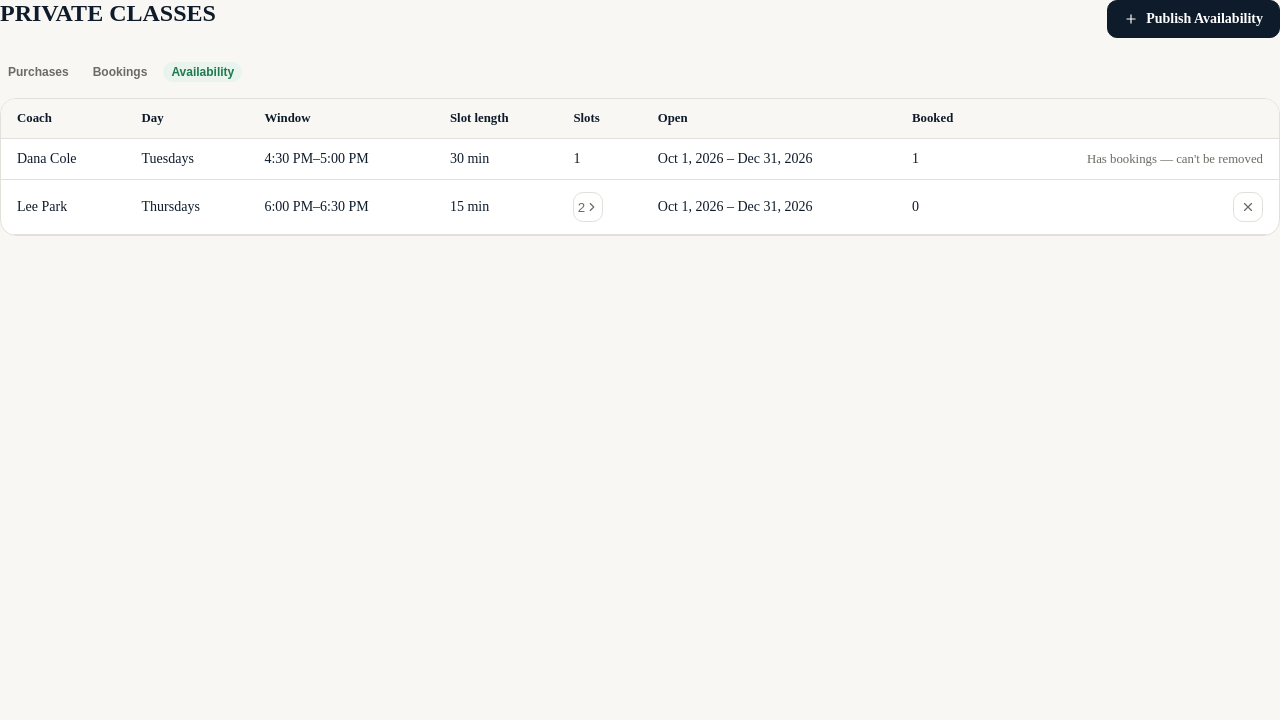
Test: AdminPrivateClassesPage › Availability: publishes on a coach's behalf (the coach picker is required)
Expected: the text "4:30 PM–5:00 PM" is shown, [248,139,434,180]
Click the button "Publish Availability": coordinates (1194, 19) [1107,0,1279,38]
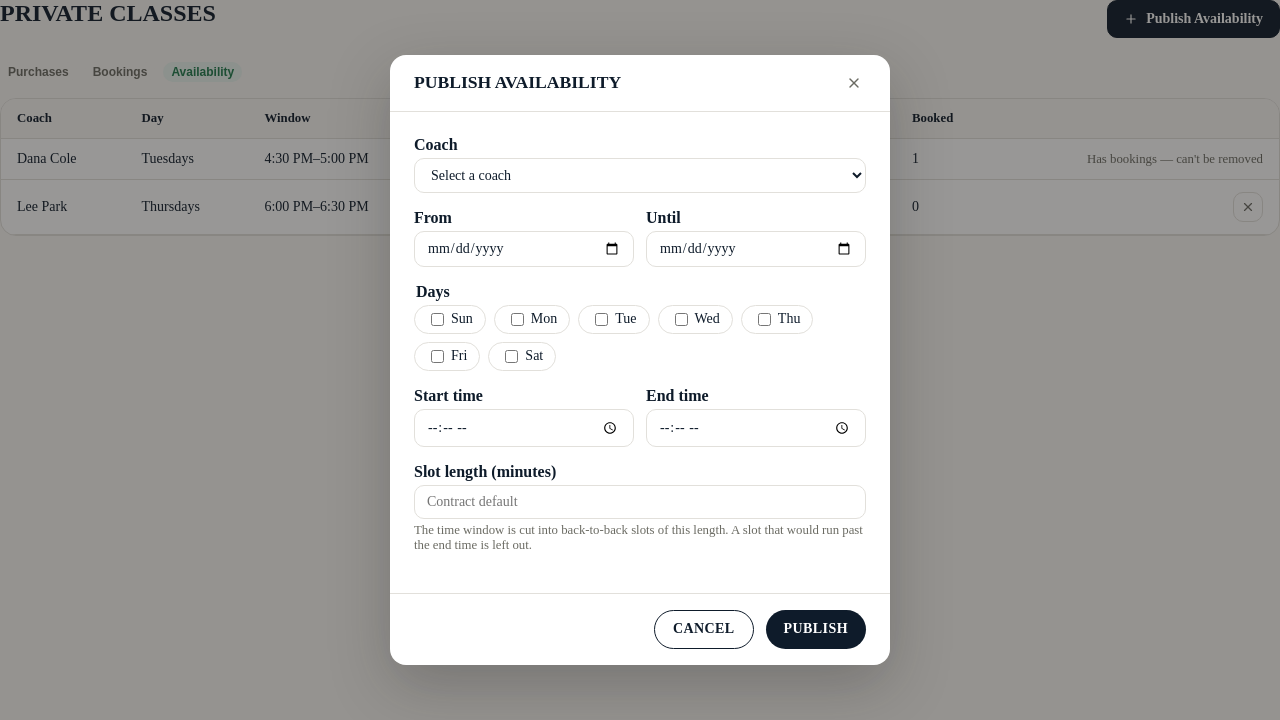
Select "Dana Cole" in the dropdown labelled "Coach": coordinates (640, 175) [414,158,866,193]
In the date field labelled "From": coordinates (524, 249) [414,231,634,267], type "2026-10-01"
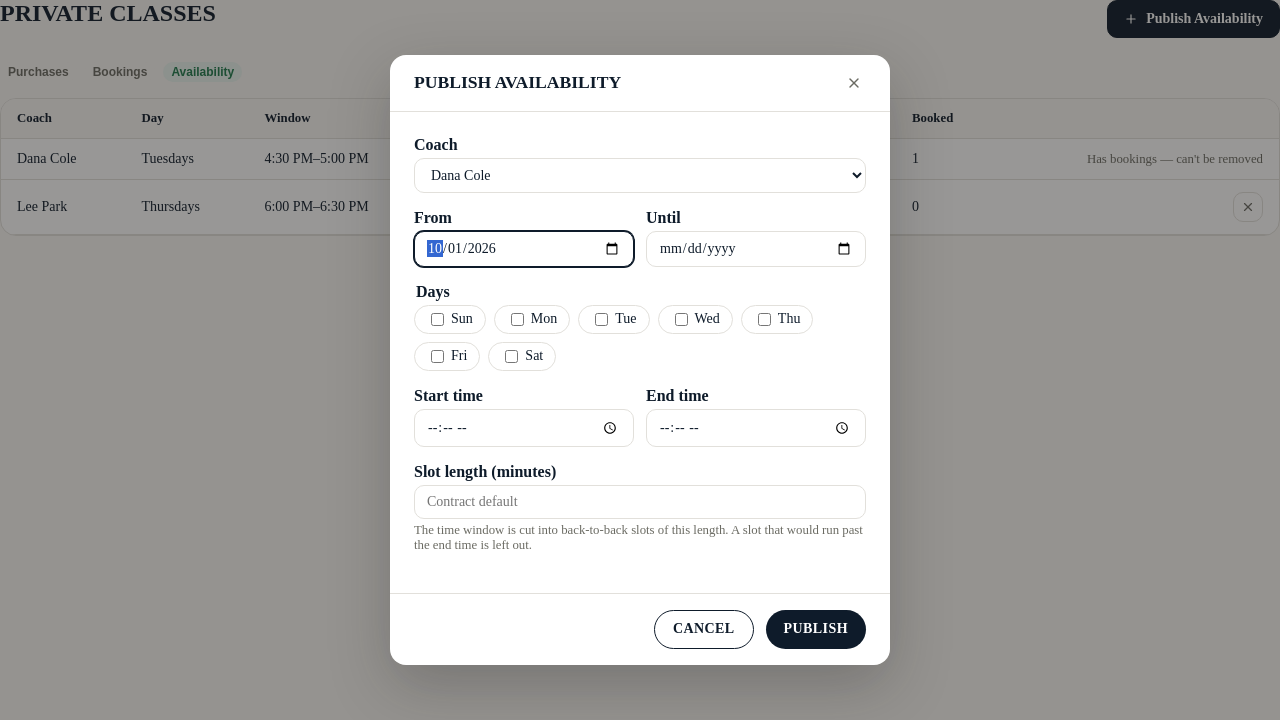
In the date field labelled "Until": coordinates (756, 249) [646,231,866,267], type "2026-10-31"
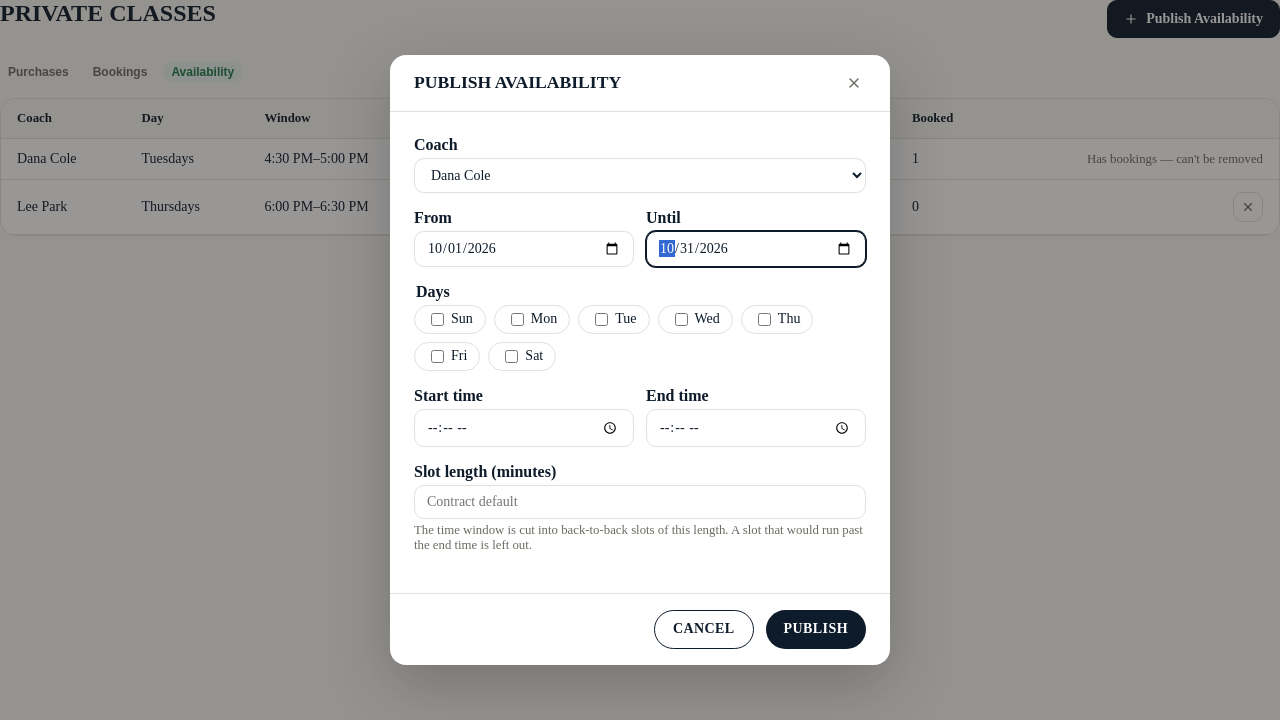
Click the checkbox labelled "Mon": coordinates (517, 319) [511,313,524,326]
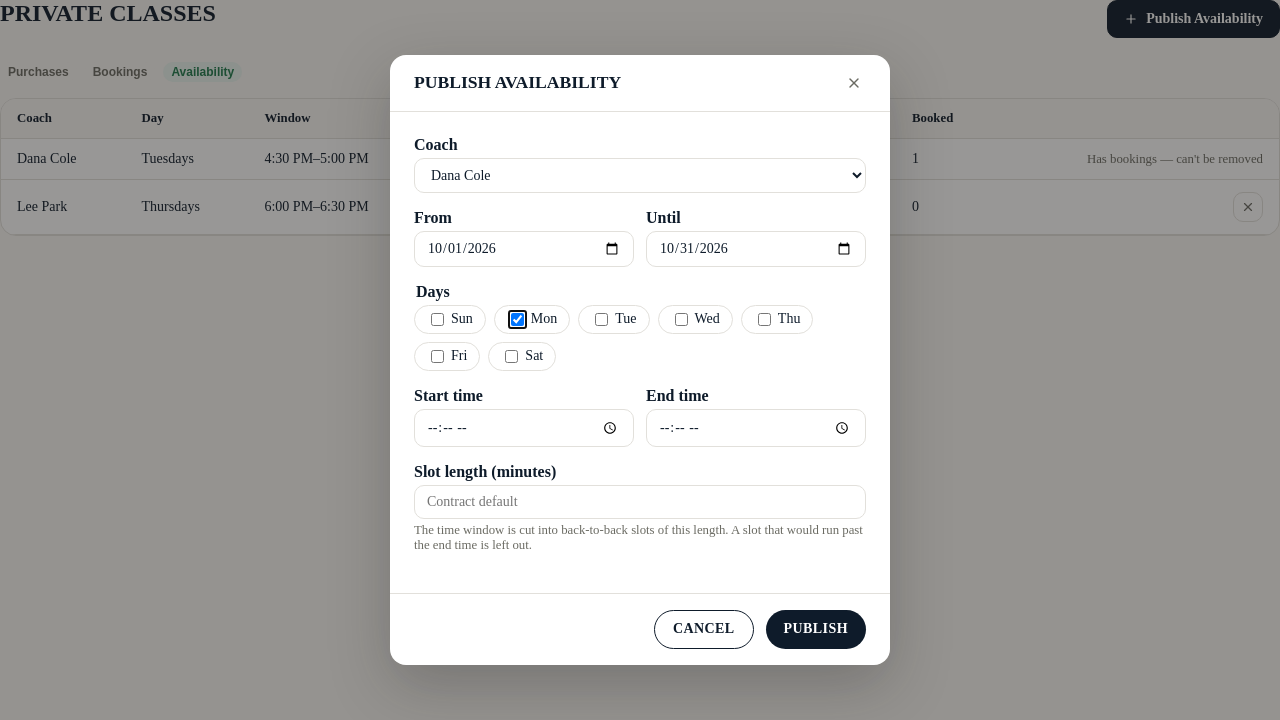
In the time field labelled "Start time": coordinates (524, 428) [414,409,634,448], type "10:00"
In the time field labelled "End time": coordinates (756, 428) [646,409,866,448], type "11:00"
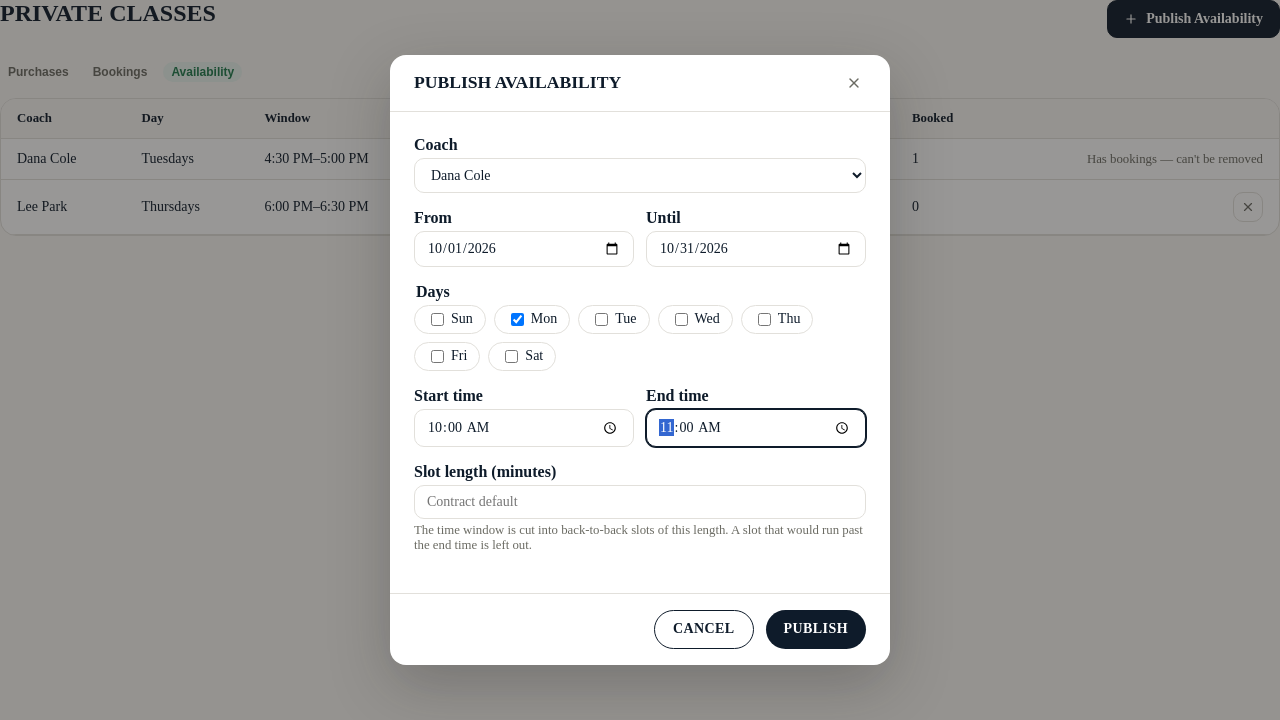
Click the button "Publish": coordinates (816, 630) [766,610,866,649]
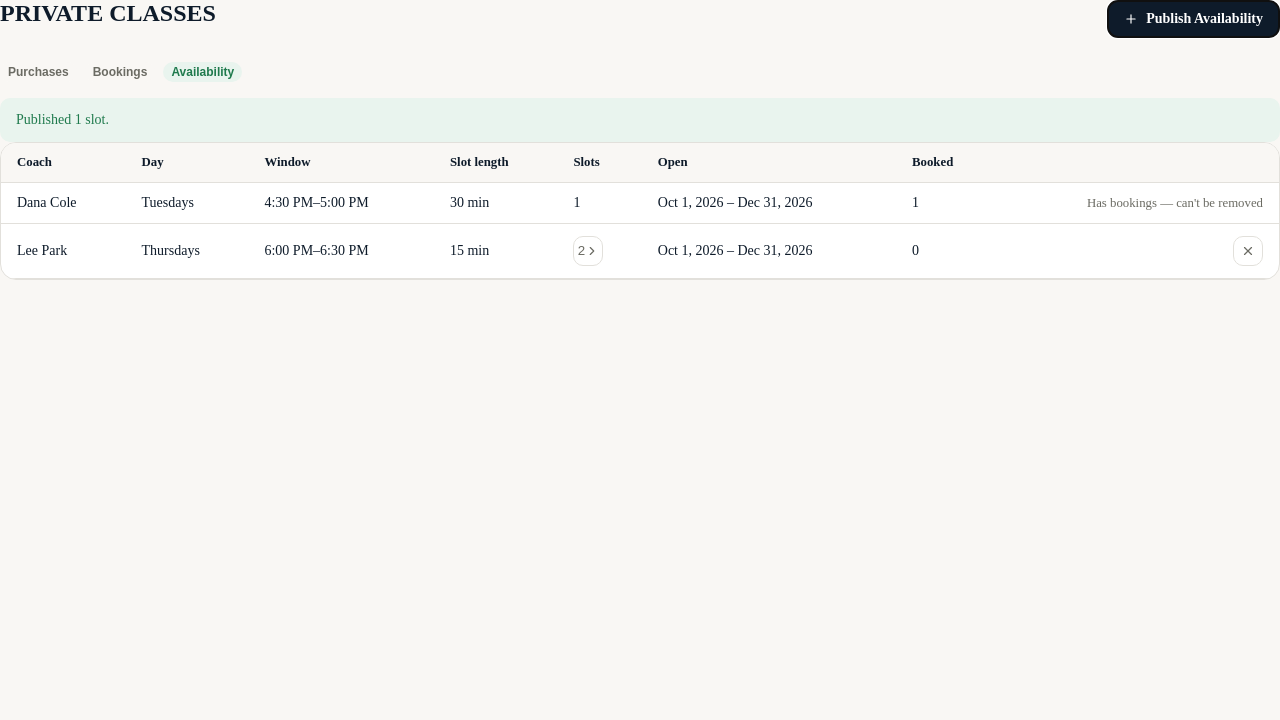
Result: the text "Published 1 slot." is shown at [0,98,1279,142]
